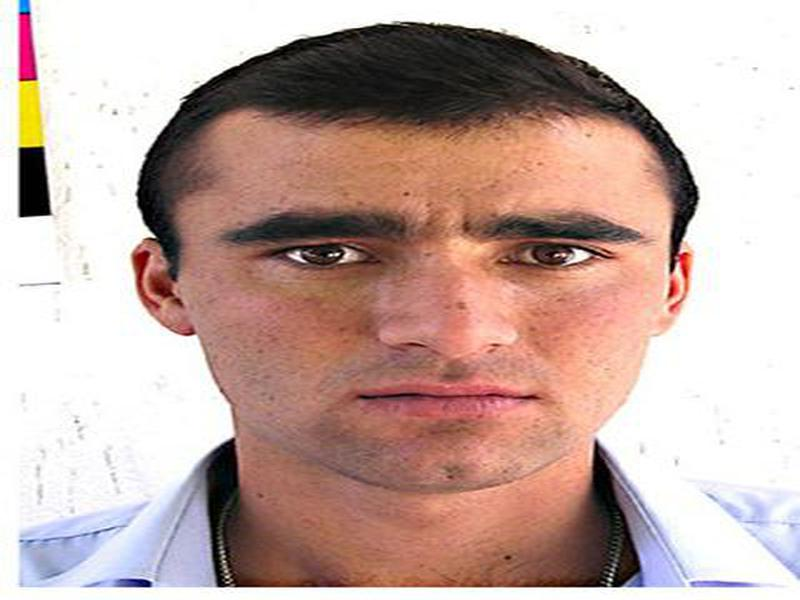without_mask: (182, 112, 659, 491)
